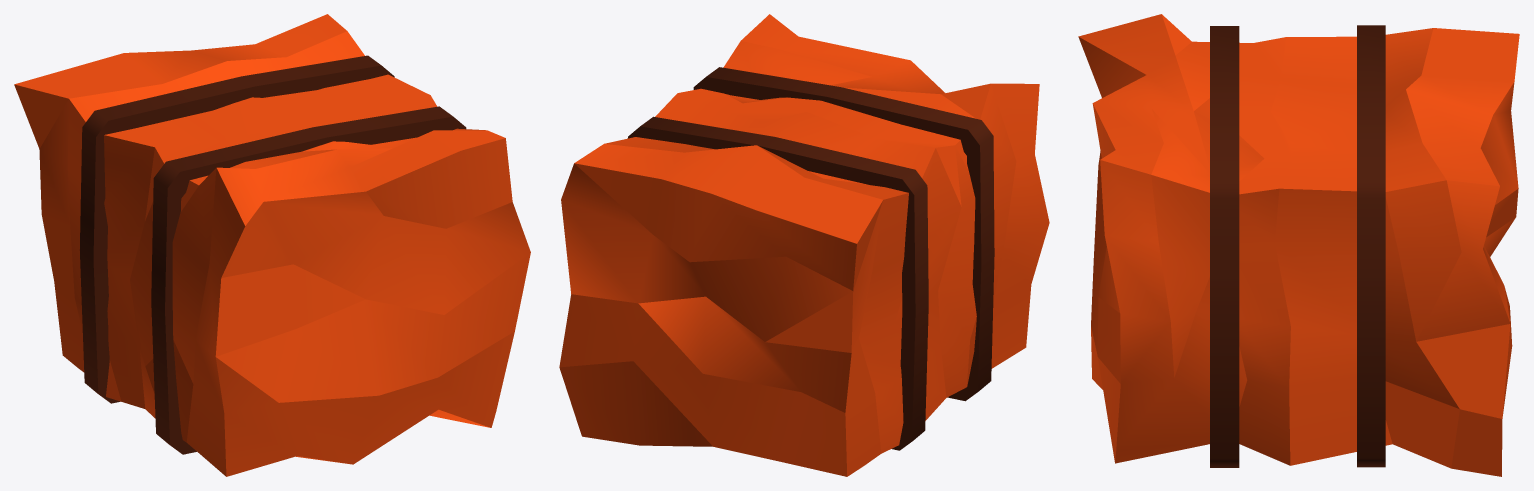
Rendered from Hay_4.fbx.
The picture shows the model from 3 angles, left to right: view 1: azimuth 30°, elevation 25°; view 2: azimuth 150°, elevation 25°; view 3: azimuth 270°, elevation 25°; orthographic projection. The views are drawn at different scales.
Visible parts, largest first — view 1: Hay_4; view 2: Hay_4; view 3: Hay_4.
Part boxes in pixels (left/top/right/bottom): Hay_4: left=14, top=14, right=530, bottom=476; Hay_4: left=559, top=14, right=1049, bottom=476; Hay_4: left=1078, top=14, right=1519, bottom=476.
Size of the model in its own units: 22.49 by 20.86 by 25.14.
